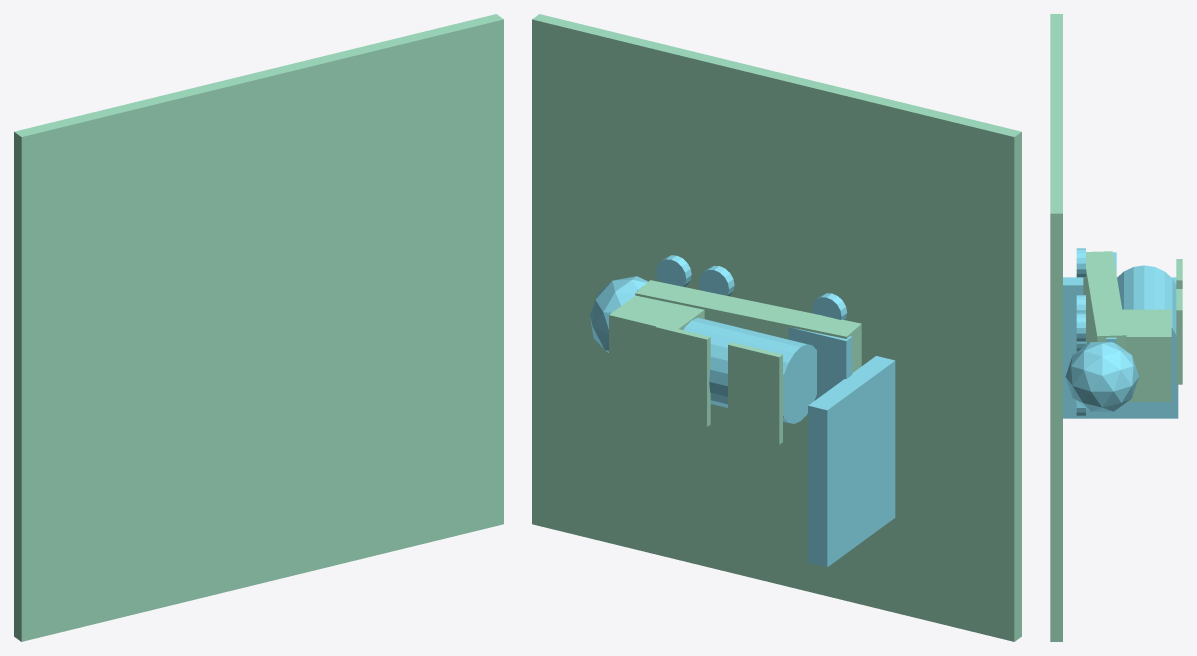
Rendered from pilot-fuel-tanker-training-kit.glb.
3 views of the same model, side by side, from view 1: azimuth 30°, elevation 25°; view 2: azimuth 150°, elevation 25°; view 3: azimuth 270°, elevation 25° (orthographic). The views are drawn at different scales.
Parts seen in each view (by area): view 1: ENVIRONMENT_GROUND; view 2: ENVIRONMENT_GROUND, ENVIRONMENT_PANEL, TANKER_CAB, PLAYER_BODY, TANKER_CARGO_SHELL, TANKER_CATWALK.001, TANKER_CATWALK, TANKER_CHASSIS, OBSTACLE, TANKER_WHEEL.005, TANKER_WHEEL.003, TANKER_WHEEL.001; view 3: ENVIRONMENT_GROUND, OBSTACLE, TANKER_CAB, ENVIRONMENT_PANEL, PLAYER_BODY, TANKER_CARGO_SHELL, TANKER_CATWALK.001, TANKER_WHEEL.005, TANKER_WHEEL.001.
Boxes of the visible parts, bbox=[...] form: ENVIRONMENT_GROUND: bbox=[14, 14, 503, 641]; ENVIRONMENT_GROUND: bbox=[532, 14, 1021, 641]; ENVIRONMENT_PANEL: bbox=[808, 356, 895, 567]; TANKER_CAB: bbox=[609, 295, 704, 402]; PLAYER_BODY: bbox=[635, 280, 861, 372]; TANKER_CARGO_SHELL: bbox=[683, 318, 816, 423]; TANKER_CATWALK.001: bbox=[655, 324, 710, 426]; TANKER_CATWALK: bbox=[728, 342, 782, 444]; TANKER_CHASSIS: bbox=[637, 285, 852, 400]; OBSTACLE: bbox=[590, 276, 648, 352]; TANKER_WHEEL.005: bbox=[656, 255, 691, 286]; TANKER_WHEEL.003: bbox=[699, 266, 734, 296]; TANKER_WHEEL.001: bbox=[811, 293, 847, 319]; ENVIRONMENT_GROUND: bbox=[1050, 14, 1062, 641]; OBSTACLE: bbox=[1065, 342, 1138, 411]; TANKER_CAB: bbox=[1122, 309, 1171, 401]; ENVIRONMENT_PANEL: bbox=[1063, 277, 1178, 418]; PLAYER_BODY: bbox=[1083, 251, 1126, 403]; TANKER_CARGO_SHELL: bbox=[1117, 265, 1176, 365]; TANKER_CATWALK.001: bbox=[1176, 289, 1182, 384]; TANKER_WHEEL.005: bbox=[1076, 312, 1085, 342]; TANKER_WHEEL.001: bbox=[1076, 248, 1085, 277].
Bounding box in the file's own units: 9 × 9 × 2.52.
